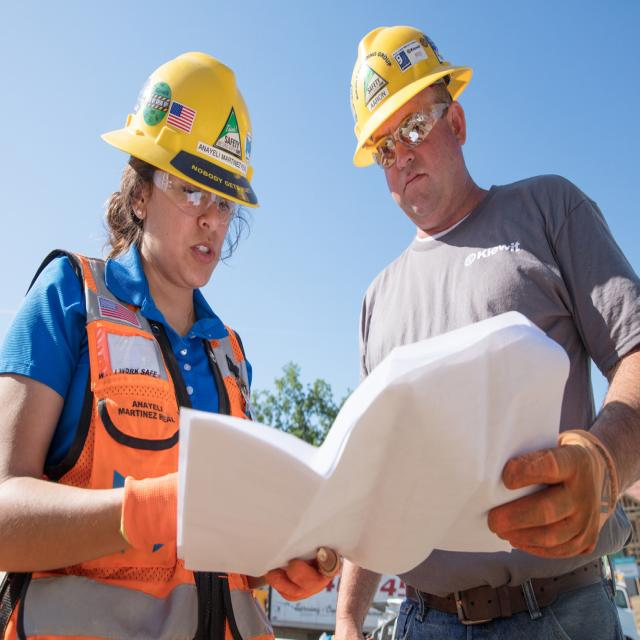Reflective-Jacket: (2, 262, 269, 640)
Safety-Helmet: (101, 48, 262, 204), (348, 18, 472, 162)
